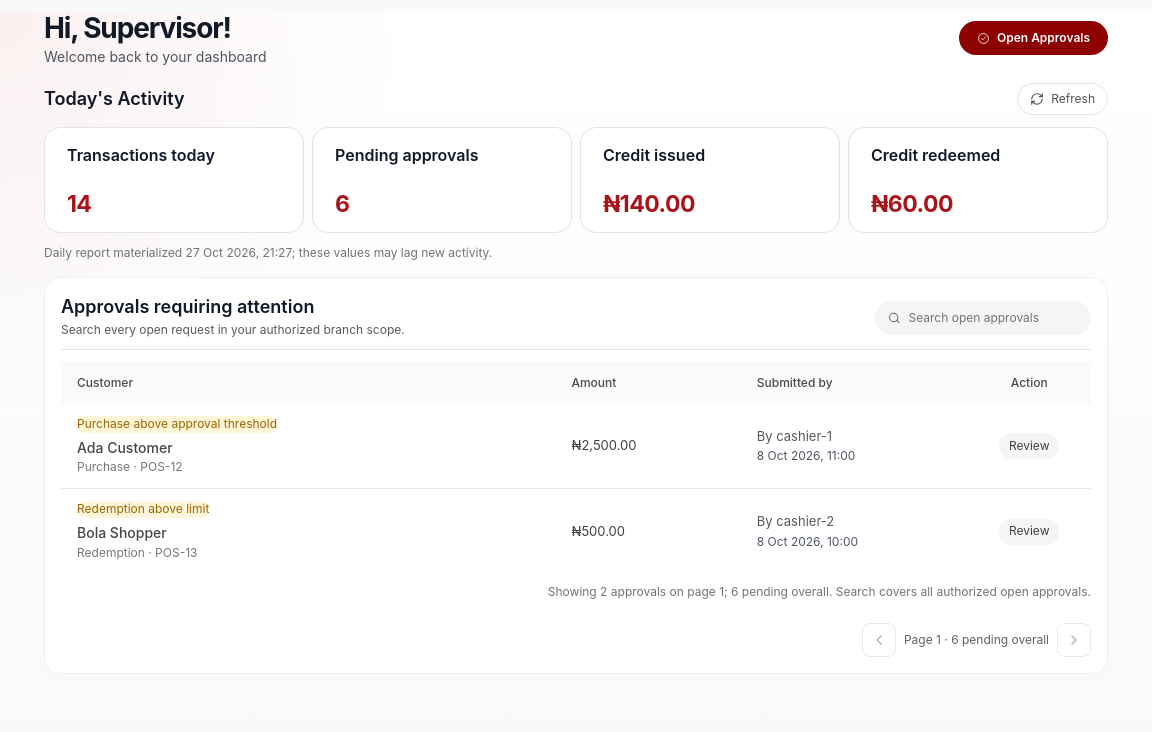
Supervisor overview live reporting › shows no-match search results without changing the pending metric
Expected: the text "Ada Customer" is shown, top-left (77, 439), bottom-right (172, 456)
Type "Nobody" into the search field named "Search all open approvals". click: x=993, y=318
box: top-left (908, 309), bottom-right (1078, 327)
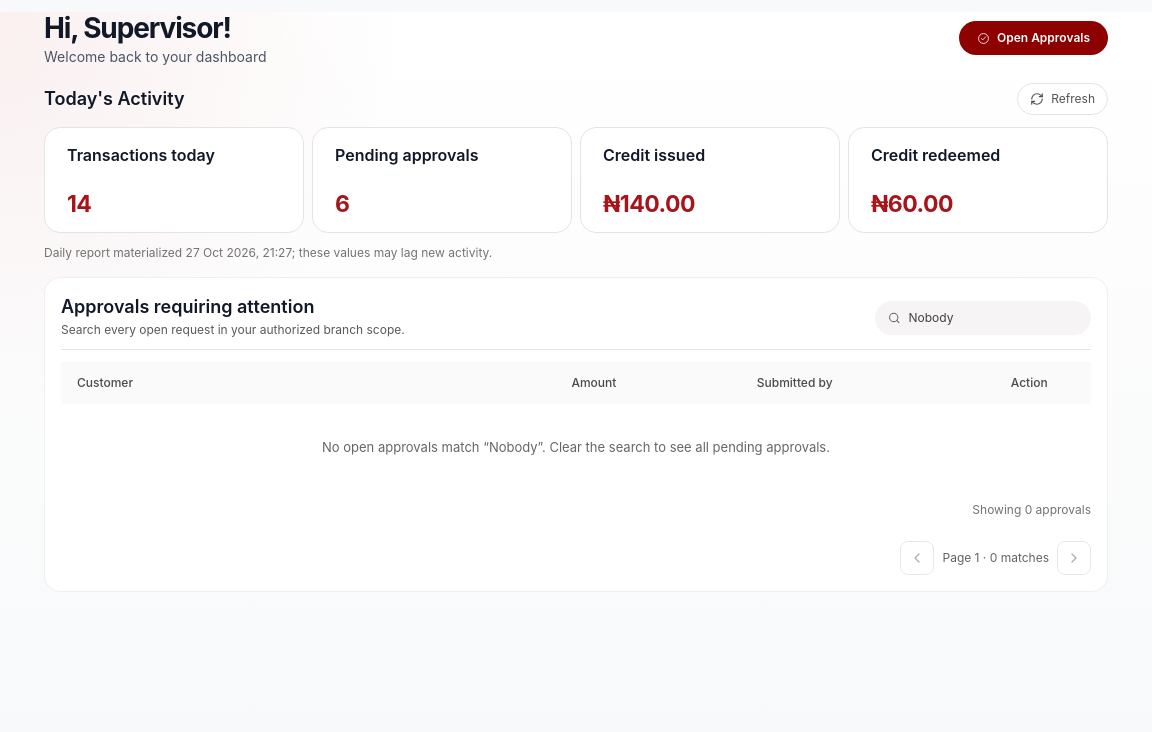
Expected: the text "6" is shown, top-left (335, 190), bottom-right (349, 218)
Result: the text "No open approvals match “Nobody”. Clear the search to see all pending approvals." is shown at top-left (61, 404), bottom-right (1091, 492)
Result: the text "Showing 0 approvals" is shown at top-left (972, 502), bottom-right (1091, 517)
